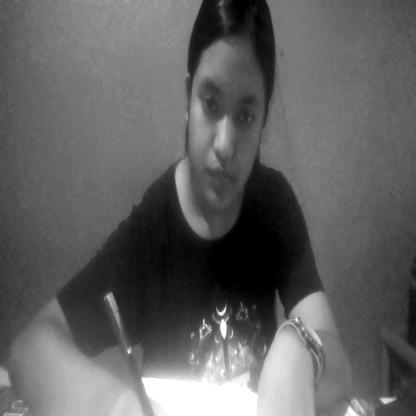Normal: (186, 3, 272, 216)
